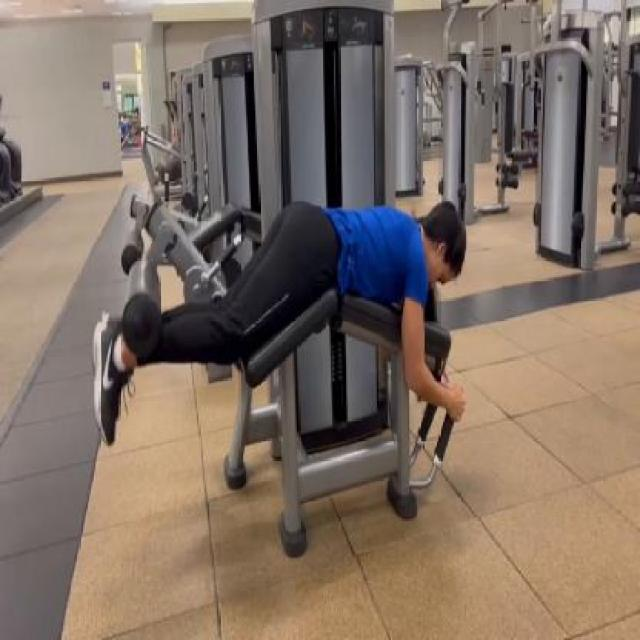reg curl machine: (94, 0, 466, 560)
